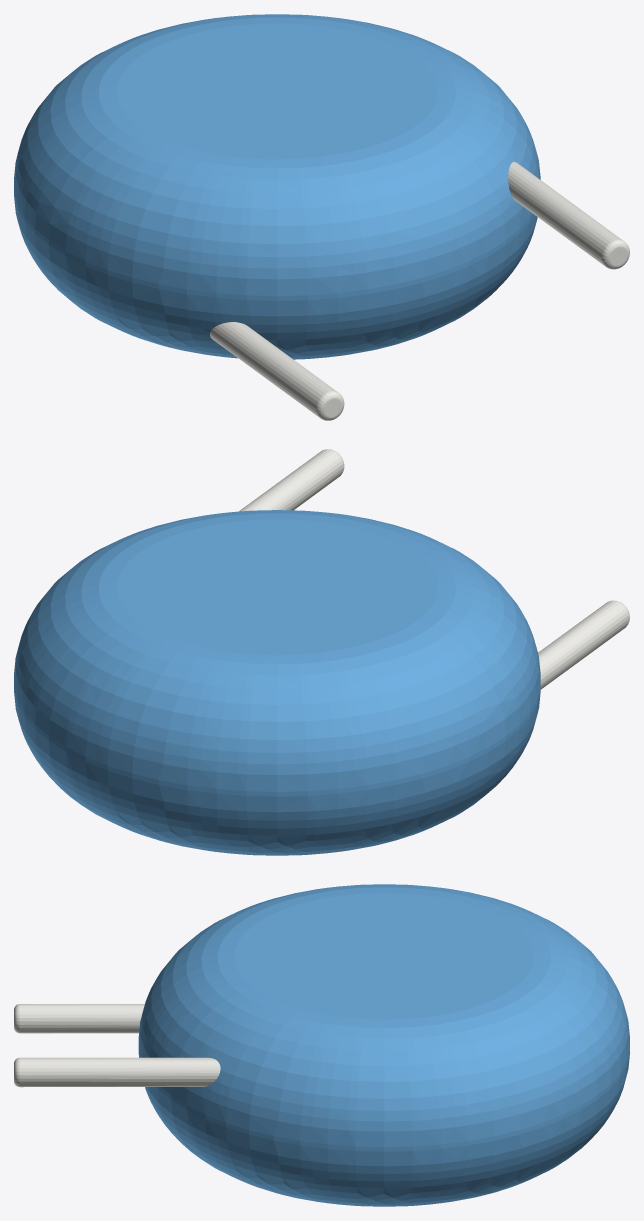
Rendered from RV_Disc_D12mm_W4.8mm_P7.5mm.glb.
The picture shows the model from 3 angles, top to bottom: view 1: azimuth 30°, elevation 25°; view 2: azimuth 150°, elevation 25°; view 3: azimuth 270°, elevation 25°; orthographic projection. The views are drawn at different scales.
Parts seen in each view (by area): view 1: Shape_IndexedFaceSet.001, Shape_IndexedFaceSet.003, Shape_IndexedFaceSet.002, Shape_IndexedFaceSet.006, Shape_IndexedFaceSet.004, Shape_IndexedFaceSet; view 2: Shape_IndexedFaceSet.001, Shape_IndexedFaceSet.003, Shape_IndexedFaceSet.002, Shape_IndexedFaceSet.006, Shape_IndexedFaceSet, Shape_IndexedFaceSet.004; view 3: Shape_IndexedFaceSet.001, Shape_IndexedFaceSet.003, Shape_IndexedFaceSet.002, Shape_IndexedFaceSet.004, Shape_IndexedFaceSet.006, Shape_IndexedFaceSet.
Part boxes in pixels (left/top/right/bottom): Shape_IndexedFaceSet.001: left=14, top=14, right=540, bottom=296; Shape_IndexedFaceSet.003: left=117, top=23, right=437, bottom=159; Shape_IndexedFaceSet.002: left=14, top=196, right=537, bottom=359; Shape_IndexedFaceSet.006: left=210, top=322, right=337, bottom=416; Shape_IndexedFaceSet.004: left=508, top=162, right=622, bottom=265; Shape_IndexedFaceSet: left=14, top=192, right=533, bottom=300; Shape_IndexedFaceSet.001: left=14, top=510, right=540, bottom=791; Shape_IndexedFaceSet.003: left=117, top=519, right=437, bottom=655; Shape_IndexedFaceSet.002: left=14, top=692, right=540, bottom=855; Shape_IndexedFaceSet.006: left=538, top=601, right=628, bottom=689; Shape_IndexedFaceSet: left=14, top=687, right=540, bottom=796; Shape_IndexedFaceSet.004: left=239, top=449, right=343, bottom=511; Shape_IndexedFaceSet.001: left=138, top=884, right=629, bottom=1147; Shape_IndexedFaceSet.003: left=234, top=893, right=533, bottom=1019; Shape_IndexedFaceSet.002: left=138, top=1054, right=629, bottom=1206; Shape_IndexedFaceSet.004: left=20, top=1057, right=220, bottom=1087; Shape_IndexedFaceSet.006: left=20, top=1004, right=144, bottom=1033; Shape_IndexedFaceSet: left=138, top=1050, right=629, bottom=1151.
Bounding box in the file's own units: 4.72 × 1.89 × 5.91.
